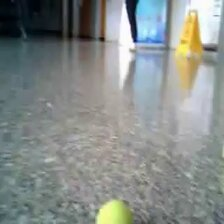tennis: (94, 199, 135, 224)
